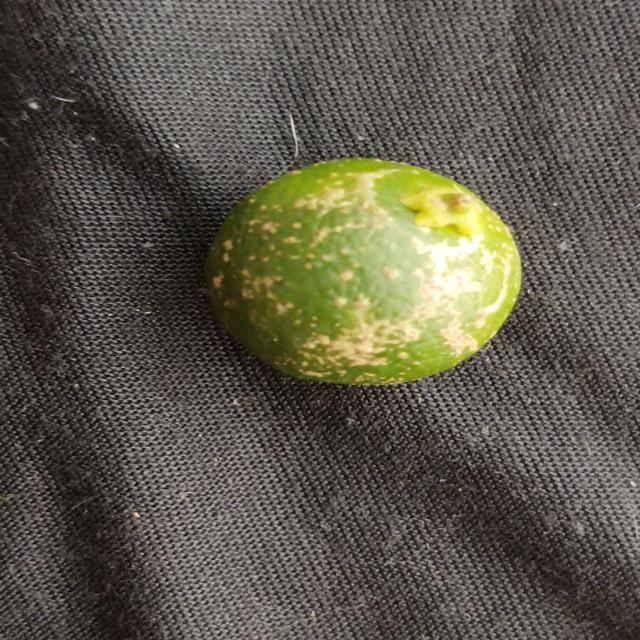scab: (212, 156, 533, 381)
